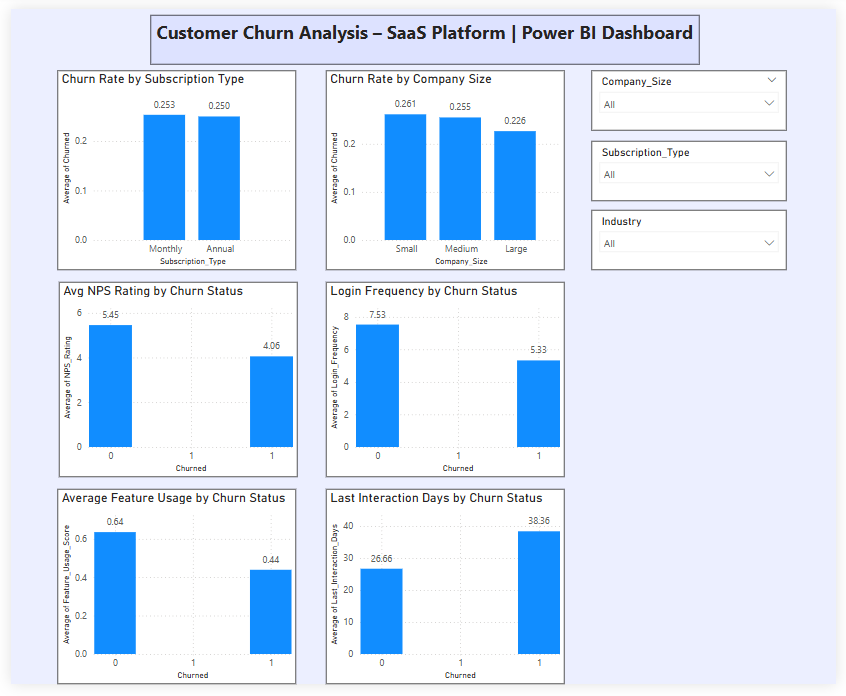

What the dashboard file says about the page in this screenshot:
{"tool":"powerbi","page":{"name":"Page 1","canvas":[1100,900],"ordinal":0},"visuals":[{"type":"clusteredColumnChart","title":"Churn Rate by Subscription Type","fields":{"Category":["Customer_Churn_SaaS_RawNPS.Subscription_Type"],"Y":["Avg(Customer_Churn_SaaS_RawNPS.Churned)"]},"box":[62,82,318,266],"z":0},{"type":"clusteredColumnChart","title":"Churn Rate by Company Size","fields":{"Category":["Customer_Churn_SaaS_RawNPS.Company_Size"],"Y":["Avg(Customer_Churn_SaaS_RawNPS.Churned)"]},"box":[420,82,318,266],"z":1000},{"type":"clusteredColumnChart","title":"Average Feature Usage by Churn Status","fields":{"Y":["Avg(Customer_Churn_SaaS_RawNPS.Feature_Usage_Score)"],"Category":["Customer_Churn_SaaS_RawNPS.Churned"]},"box":[62,640,318,260],"z":2000},{"type":"clusteredColumnChart","title":"Avg NPS Rating by Churn Status","fields":{"Y":["Avg(Customer_Churn_SaaS_RawNPS.NPS_Rating)"],"Category":["Customer_Churn_SaaS_RawNPS.Churned"]},"box":[64,364,318,260],"z":3000},{"type":"clusteredColumnChart","title":"Login Frequency by Churn Status","fields":{"Y":["Avg(Customer_Churn_SaaS_RawNPS.Login_Frequency)"],"Category":["Customer_Churn_SaaS_RawNPS.Churned"]},"box":[420,364,318,260],"z":4000},{"type":"clusteredColumnChart","title":"Last Interaction Days by Churn Status","fields":{"Y":["Avg(Customer_Churn_SaaS_RawNPS.Last_Interaction_Days)"],"Category":["Customer_Churn_SaaS_RawNPS.Churned"]},"box":[420,640,318,260],"z":5000},{"type":"slicer","fields":{"Values":["Customer_Churn_SaaS_RawNPS.Company_Size"]},"box":[774,82,260,80],"z":6000},{"type":"slicer","fields":{"Values":["Customer_Churn_SaaS_RawNPS.Industry"]},"box":[774,268,260,80],"z":7000},{"type":"slicer","fields":{"Values":["Customer_Churn_SaaS_RawNPS.Subscription_Type"]},"box":[774,176,260,80],"z":8000},{"type":"textbox","box":[186,8,732,66],"z":8001}]}

Visuals, with their boxes in screenshot pixels (x1, y1, x2, y2), scaled from the page's 1100x900 canvas onto the 846x696 screenshot:
"Churn Rate by Subscription Type" clusteredColumnChart: <bbox>48, 63, 292, 269</bbox>
"Churn Rate by Company Size" clusteredColumnChart: <bbox>323, 63, 568, 269</bbox>
"Average Feature Usage by Churn Status" clusteredColumnChart: <bbox>48, 495, 292, 695</bbox>
"Avg NPS Rating by Churn Status" clusteredColumnChart: <bbox>49, 281, 294, 483</bbox>
"Login Frequency by Churn Status" clusteredColumnChart: <bbox>323, 281, 568, 483</bbox>
"Last Interaction Days by Churn Status" clusteredColumnChart: <bbox>323, 495, 568, 695</bbox>
slicer - Customer_Churn_SaaS_RawNPS.Company_Size: <bbox>595, 63, 795, 125</bbox>
slicer - Customer_Churn_SaaS_RawNPS.Industry: <bbox>595, 207, 795, 269</bbox>
slicer - Customer_Churn_SaaS_RawNPS.Subscription_Type: <bbox>595, 136, 795, 198</bbox>
textbox: <bbox>143, 6, 706, 57</bbox>
